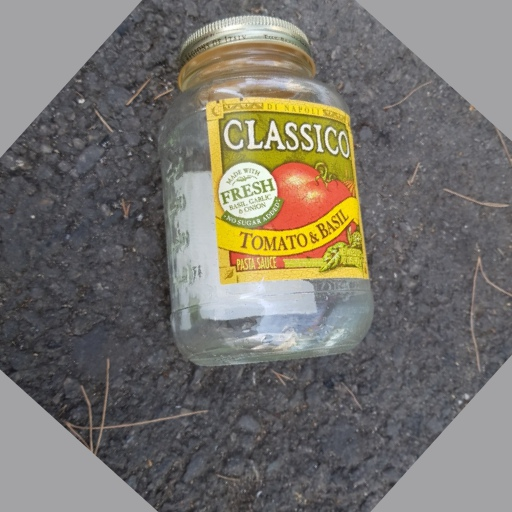Glass_5: (155, 19, 375, 367)
